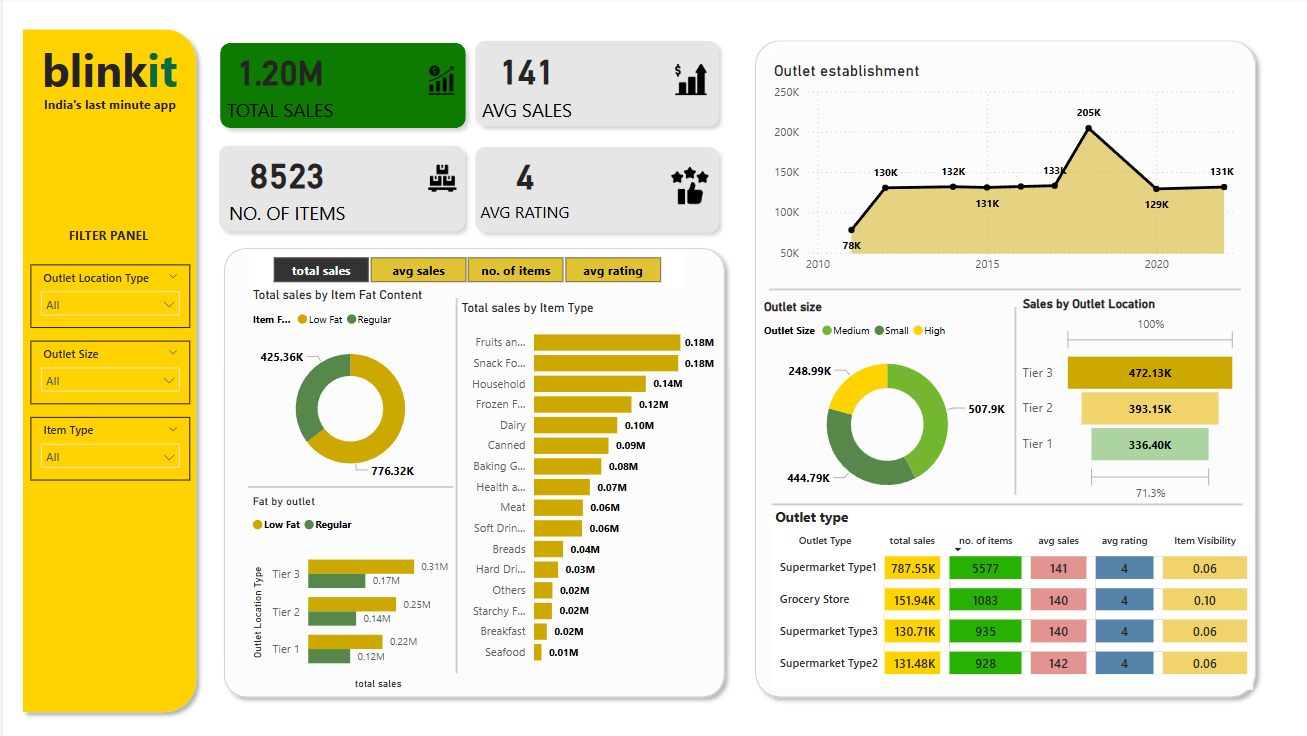

The page's visual inventory and layout, read from the dashboard file:
{"tool":"powerbi","page":{"name":"Page 1","canvas":[1400,800],"ordinal":0},"visuals":[{"type":"shape","box":[12,25.5,204.1,750.4],"z":0},{"type":"textbox","box":[12,40.5,204.1,76.5],"z":1000},{"type":"textbox","box":[33,100.6,162.1,34.5],"z":2000},{"type":"shape","box":[223.3,40.7,281.3,109.3],"z":3000},{"type":"shape","box":[496.7,37.8,278.9,110],"z":4000},{"type":"shape","box":[223.1,150,281.5,110],"z":5000},{"type":"shape","box":[496.7,151.1,278.9,110],"z":6000},{"type":"card","fields":{"Values":["BlinkIT Grocery Data.total sales"]},"box":[176.9,36.2,240.8,110.8],"z":7000},{"type":"card","fields":{"Values":["BlinkIT Grocery Data.no. of items"]},"box":[184.6,146.2,240,111.5],"z":8000},{"type":"card","fields":{"Values":["BlinkIT Grocery Data.avg sales"]},"box":[466.7,35.6,191.1,110],"z":9000},{"type":"card","fields":{"Values":["BlinkIT Grocery Data.avg rating"]},"box":[500,145.6,120,111.1],"z":10000},{"type":"image","box":[700,66,76,46],"z":11000},{"type":"image","box":[712,174,50,56],"z":12000},{"type":"image","box":[438,174,66,40],"z":13000},{"type":"image","box":[436,68,68,42],"z":14000},{"type":"shape","box":[227.5,260,555,500],"z":15000},{"type":"donutChart","title":"Total sales by Item Fat Content","fields":{"Y":["BlinkIT Grocery Data.total sales"],"Category":["BlinkIT Grocery Data.Item Fat Content"]},"box":[263.3,312.2,220,216.7],"z":16000},{"type":"slicer","fields":{"Values":["Metric.Metric"]},"box":[263.6,271.8,465.5,40],"z":17000},{"type":"clusteredBarChart","title":"Fat by outlet","fields":{"Y":["BlinkIT Grocery Data.total sales"],"Category":["BlinkIT Grocery Data.Outlet Location Type"],"Series":["BlinkIT Grocery Data.Item Fat Content"]},"box":[263.3,533.3,220,213.3],"z":18000},{"type":"shape","box":[263.3,450,220,150],"z":19000},{"type":"shape","box":[336.7,323.3,300,402.2],"z":20000},{"type":"barChart","title":"Total sales by Item Type","fields":{"Y":["BlinkIT Grocery Data.total sales"],"Category":["BlinkIT Grocery Data.Item Type"]},"box":[486.7,325.6,281.1,400],"z":21000},{"type":"shape","box":[797.5,37.5,555,722.5],"z":22000},{"type":"lineChart","title":"Outlet establishment","fields":{"Category":["BlinkIT Grocery Data.Outlet Establishment Year"],"Y":["BlinkIT Grocery Data.total sales"]},"box":[822,68,506,236],"z":23000},{"type":"shape","box":[822,238,506,150],"z":24000},{"type":"donutChart","title":"Outlet size","fields":{"Y":["BlinkIT Grocery Data.total sales"],"Category":["BlinkIT Grocery Data.Outlet Size"]},"box":[811.2,323.8,275,226.2],"z":25000},{"type":"shape","box":[936.2,332.5,300,201.2],"z":26000},{"type":"funnel","title":" Sales by Outlet Location ","fields":{"Y":["Sum(BlinkIT Grocery Data.Sales)"],"Category":["BlinkIT Grocery Data.Outlet Location Type"]},"box":[1088.8,321.2,240,225],"z":27000},{"type":"shape","box":[823.8,533.8,505,21.2],"z":28000},{"type":"pivotTable","title":"Outlet type","fields":{"Rows":["BlinkIT Grocery Data.Outlet Type"],"Values":["BlinkIT Grocery Data.total sales","BlinkIT Grocery Data.no. of items","BlinkIT Grocery Data.avg sales","BlinkIT Grocery Data.avg rating","Avg(BlinkIT Grocery Data.Item Visibility)"]},"box":[822.5,546.2,517.5,196.2],"z":29000},{"type":"slicer","fields":{"Values":["BlinkIT Grocery Data.Outlet Location Type"]},"box":[28.9,286.7,171.1,67.8],"z":30000},{"type":"slicer","fields":{"Values":["BlinkIT Grocery Data.Outlet Size"]},"box":[28.9,368.9,171.1,67.8],"z":31000},{"type":"slicer","fields":{"Values":["BlinkIT Grocery Data.Item Type"]},"box":[28.9,450,171.1,67.8],"z":32000},{"type":"textbox","box":[50.9,241.8,124.5,32.7],"z":33000}]}

Visuals, with their boxes in screenshot pixels (x1, y1, x2, y2), scaled from the page's 1400x800 canvas onto the 1307x736 screenshot:
shape: crop(11, 23, 202, 714)
textbox: crop(11, 37, 202, 108)
textbox: crop(31, 93, 182, 124)
shape: crop(208, 37, 471, 138)
shape: crop(464, 35, 724, 136)
shape: crop(208, 138, 471, 239)
shape: crop(464, 139, 724, 240)
card - BlinkIT Grocery Data.total sales: crop(165, 33, 390, 135)
card - BlinkIT Grocery Data.no. of items: crop(172, 135, 396, 237)
card - BlinkIT Grocery Data.avg sales: crop(436, 33, 614, 134)
card - BlinkIT Grocery Data.avg rating: crop(467, 134, 579, 236)
image: crop(654, 61, 724, 103)
image: crop(665, 160, 711, 212)
image: crop(409, 160, 471, 197)
image: crop(407, 63, 471, 101)
shape: crop(212, 239, 731, 699)
"Total sales by Item Fat Content" donutChart: crop(246, 287, 451, 487)
slicer - Metric.Metric: crop(246, 250, 681, 287)
"Fat by outlet" clusteredBarChart: crop(246, 491, 451, 687)
shape: crop(246, 414, 451, 552)
shape: crop(314, 297, 594, 667)
"Total sales by Item Type" barChart: crop(454, 300, 717, 668)
shape: crop(745, 34, 1263, 699)
"Outlet establishment" lineChart: crop(767, 63, 1240, 280)
shape: crop(767, 219, 1240, 357)
"Outlet size" donutChart: crop(757, 298, 1014, 506)
shape: crop(874, 306, 1154, 491)
" Sales by Outlet Location " funnel: crop(1016, 296, 1241, 503)
shape: crop(769, 491, 1241, 511)
"Outlet type" pivotTable: crop(768, 503, 1251, 683)
slicer - BlinkIT Grocery Data.Outlet Location Type: crop(27, 264, 187, 326)
slicer - BlinkIT Grocery Data.Outlet Size: crop(27, 339, 187, 402)
slicer - BlinkIT Grocery Data.Item Type: crop(27, 414, 187, 476)
textbox: crop(48, 222, 164, 253)
